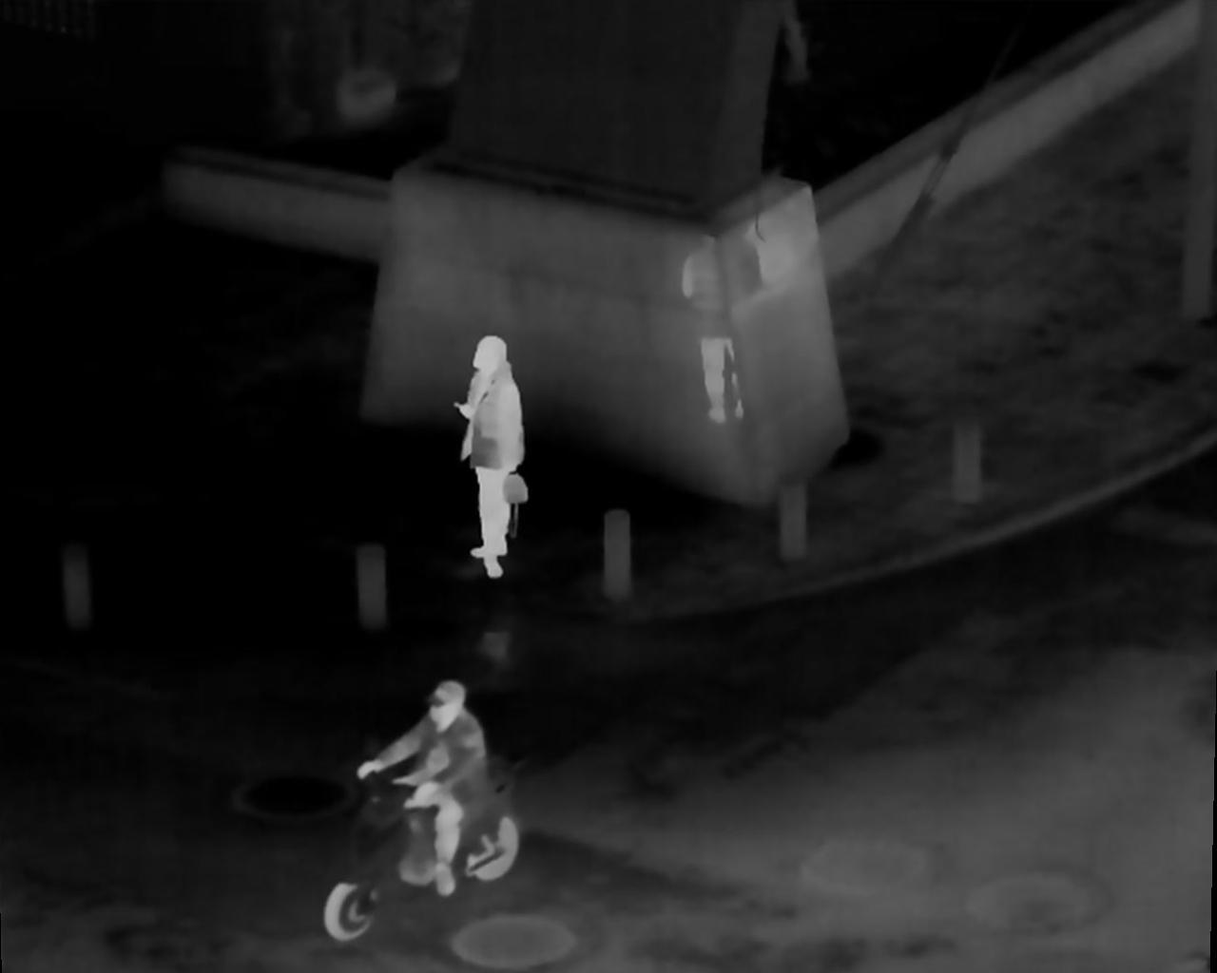person: (344, 682, 493, 894), (464, 335, 528, 574)
